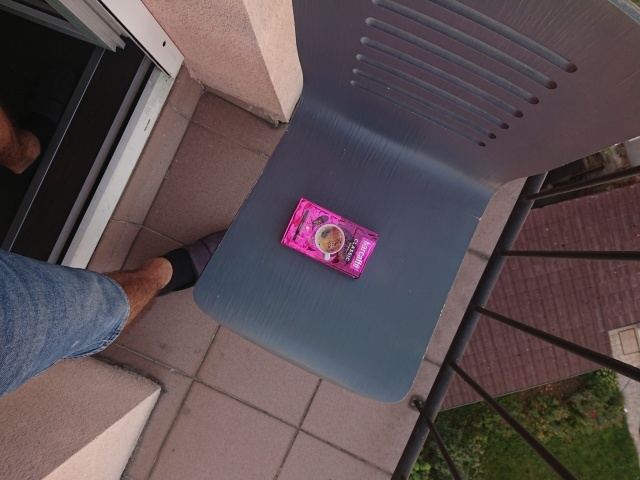Barcaffe Classic Original 225g: (279, 196, 382, 281)
